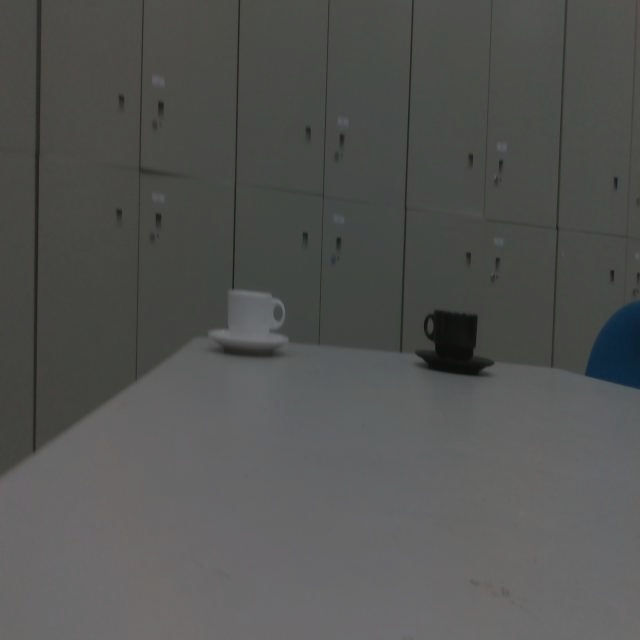black: (411, 301, 492, 383)
white: (208, 284, 290, 356)
